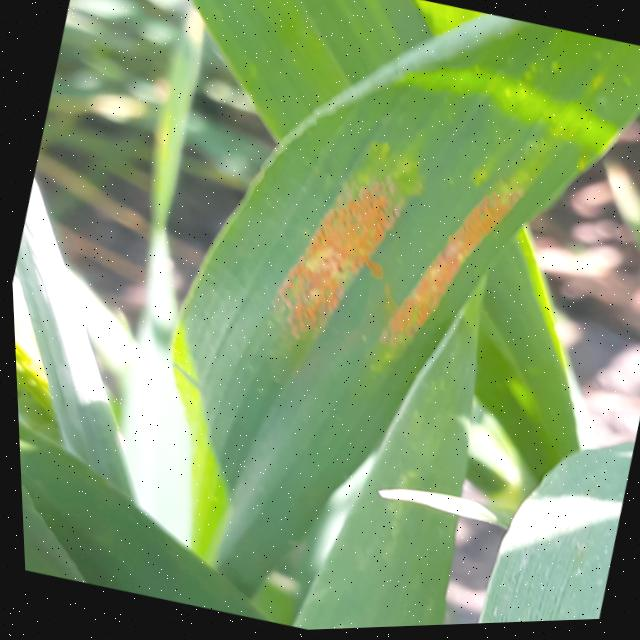yellow_rust: (36, 0, 640, 539)
